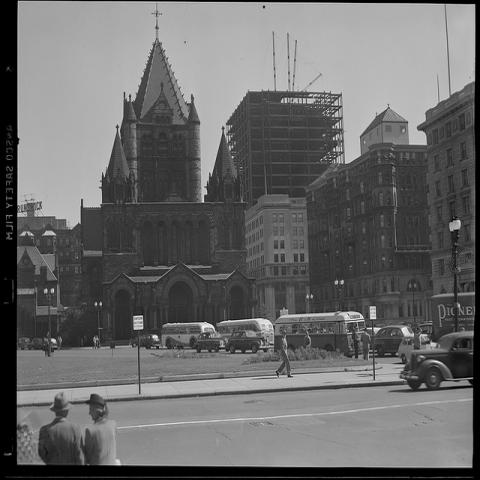bus: (272, 306, 365, 357), (161, 319, 217, 348), (216, 317, 274, 342)
car: (399, 328, 476, 390), (373, 324, 414, 358), (397, 334, 440, 364), (225, 330, 270, 354), (192, 331, 228, 352), (139, 333, 161, 350), (27, 337, 45, 350), (20, 337, 32, 350), (51, 338, 59, 353)
truck: (430, 292, 474, 343)
